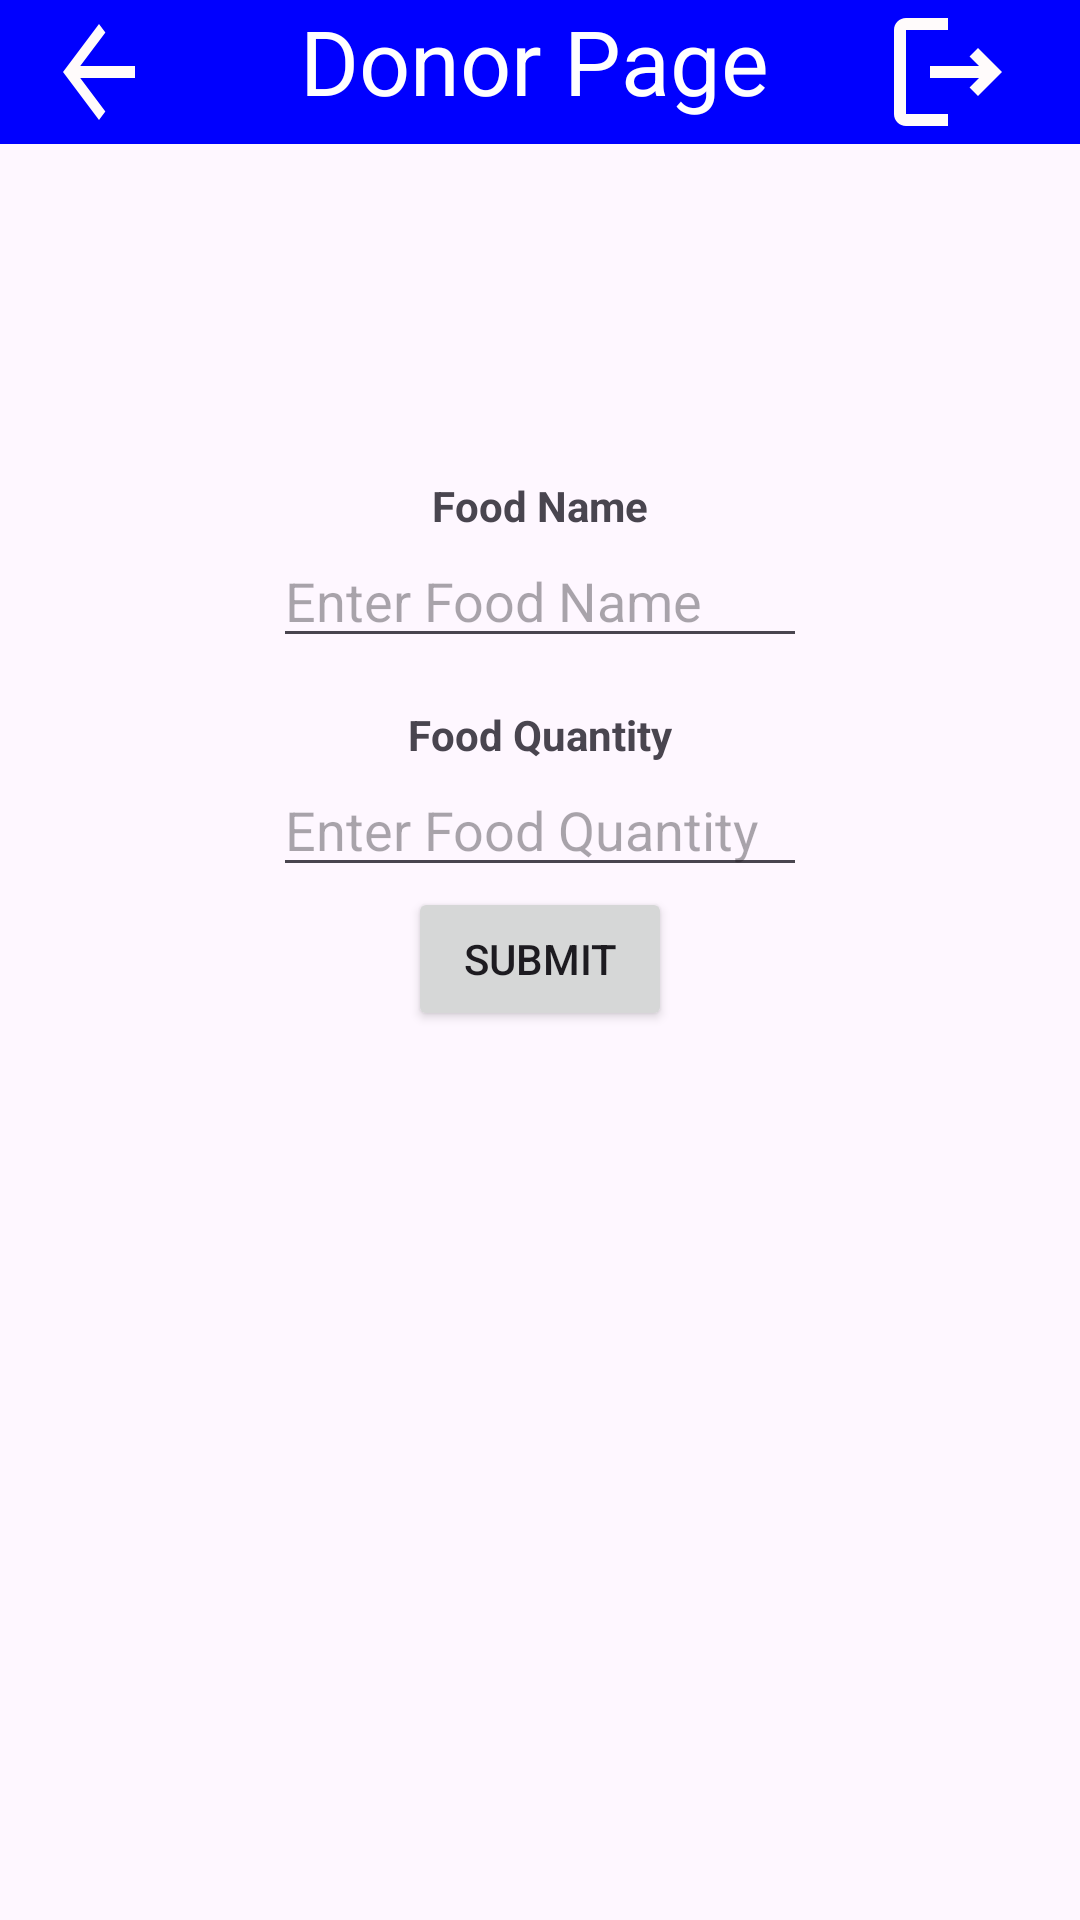

Screen size 1080x1920. Icon name, then its box in pixels as [x1=x1, y1=y1, x2=x2, y2=y2]:
arrow back: [x1=63, y1=24, x2=135, y2=120]
